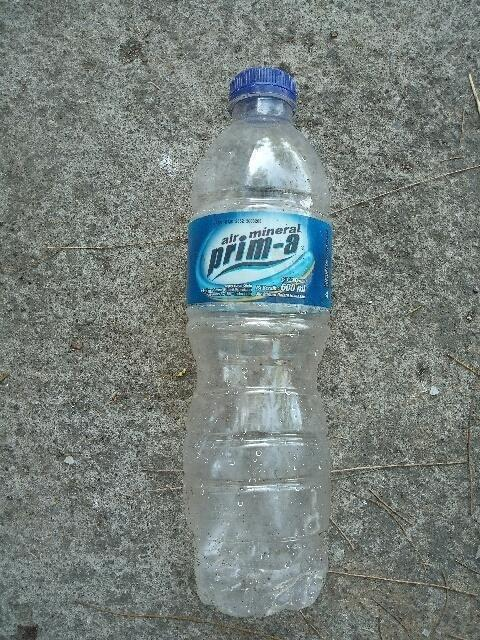bottle-plastic: (176, 60, 344, 625)
